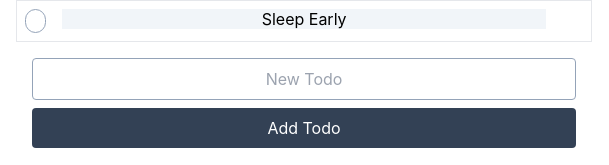
TodoListPage › updating todos › renders the Delete button when toggled to 'complete'
The width and height of the screenshot is (609, 165).
expect the button "❌" is not shown: met
Click the checkbox at (36, 21), box [25,9,46,33]
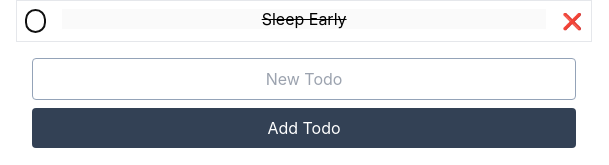
expect the button "❌" is shown: met, box [562,9,582,33]
